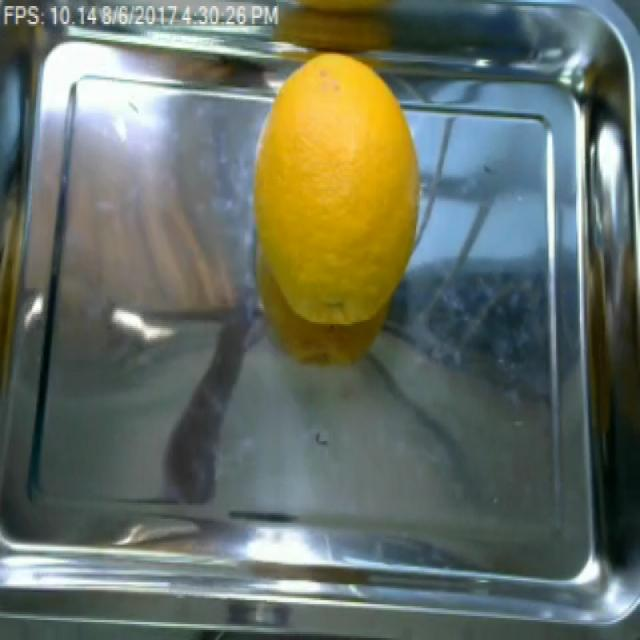Fruit: (250, 48, 430, 380)
